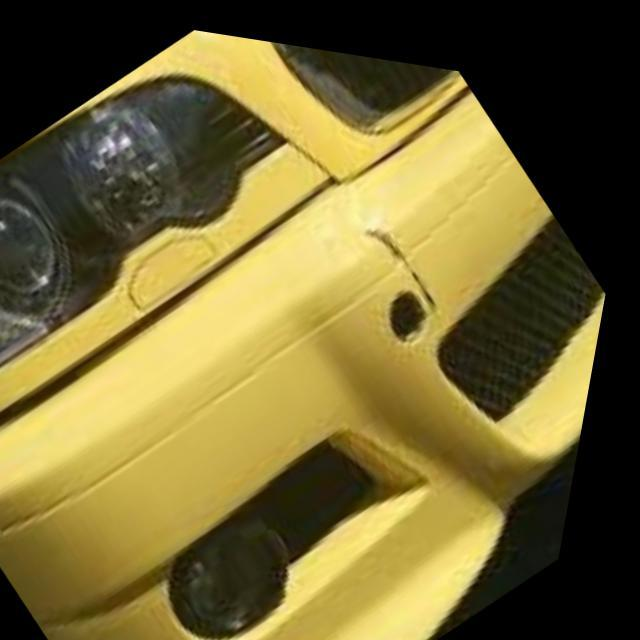crack: (360, 201, 464, 309)
